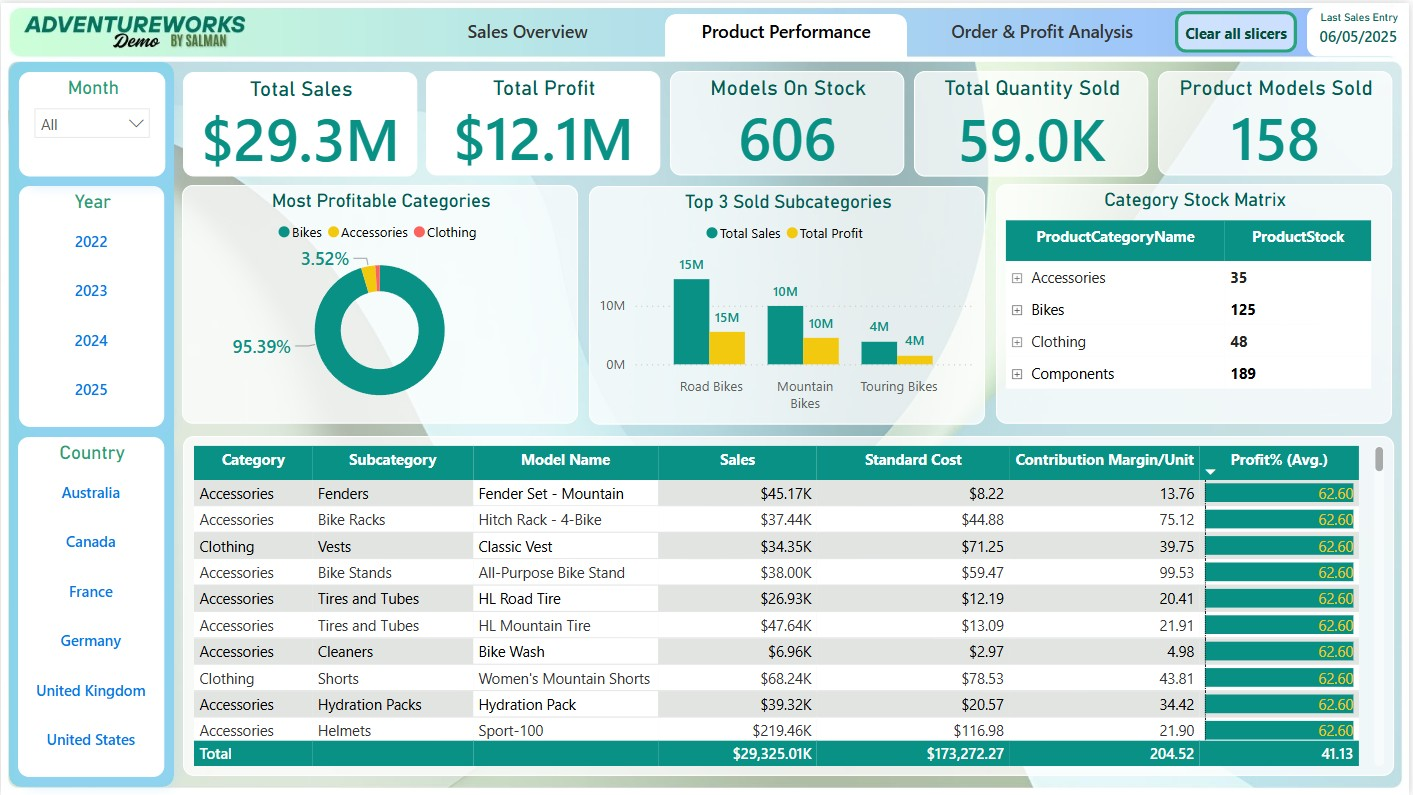

This screenshot's page, from the dashboard's own definition file:
{"tool":"powerbi","page":{"name":"Product Performance","canvas":[1280,720],"ordinal":1},"visuals":[{"type":"shape","box":[7.4,53.8,150.4,659],"z":0,"group":"g1"},{"type":"clusteredColumnChart","title":"Top 3 Sold Subcategories","fields":{"Category":["DimProduct.ProductSubcategoryName"],"Y":["_Mesures.Total Sales","_Mesures.Total Profit"]},"box":[534.7,166.6,360,217.4],"z":0},{"type":"advancedSlicerVisual","title":"Year","fields":{"Values":["DimDate.CalendarYear"]},"box":[16.3,166.5,131.7,218.9],"z":1000,"group":"g1"},{"type":"tableEx","title":"Total Sales, Total Profit and Net Profit Margin %","fields":{"Values":["DimProduct.ProductCategoryName","DimProduct.ProductSubcategoryName","DimProduct.ModelName","_Mesures.Total Sales","DimProduct.StandardCost","_Mesures.Contribution Margin Per Unit","_Mesures.Profit%"]},"box":[165.5,394,1101.2,309.1],"z":1000},{"type":"actionButton","title":"SalesOverviewButton","box":[368.2,10,221,40],"z":2000},{"type":"slicer","title":"Month","fields":{"Values":["DimDate.EnglishMonthName"]},"box":[16.1,62.5,133.2,95],"z":2000,"group":"g1"},{"type":"card","title":"Models On Stock","fields":{"Values":["_Mesures.ProductStock"]},"box":[608.5,62.2,213,94.7],"z":3000},{"type":"advancedSlicerVisual","title":"Country","fields":{"Values":["DimCustomer.EnglishCountryRegionName"]},"box":[15.8,394.5,132.7,309.1],"z":3000,"group":"g1"},{"type":"donutChart","title":"Most Profitable Categories","fields":{"Category":["DimProduct.ProductCategoryName"],"Y":["_Mesures.Total Profit"]},"box":[164.9,165.8,360,217.2],"z":4000},{"type":"actionButton","title":"OnP Button","box":[836.4,10,220.2,40],"z":5000},{"type":"card","title":"Products Sold","fields":{"Values":["_Mesures.DistinctProductCount"]},"box":[1052,62,213,94.9],"z":6000},{"type":"card","title":"Total Quantity Sold","fields":{"Values":["_Mesures.Total Quantity Sold"]},"box":[830.2,62.2,213,95.6],"z":7000},{"type":"actionButton","title":"PP Button","box":[603.3,10,220.2,40],"z":8000},{"type":"pivotTable","title":"Category Stock Matrix","fields":{"Values":["_Mesures.ProductStock"],"Rows":["DimProduct.ProductCategoryName Hierarchy.ProductCategoryName","DimProduct.ProductCategoryName Hierarchy.ProductSubcategoryName","DimProduct.ProductCategoryName Hierarchy.ModelName"]},"box":[904.4,164.9,360,218.1],"z":9000},{"type":"actionButton","title":"Slicer Button","box":[1067,7,111,38],"z":10000},{"type":"card","title":"Total Sales","fields":{"Values":["_Mesures.Total Sales"]},"box":[165,63,213,94.9],"z":11000},{"type":"card","title":"Total Profit","fields":{"Values":["_Mesures.Total Discount"]},"box":[386.8,62.1,213,94.9],"z":12000},{"type":"group","id":"g1","title":"Group 1","box":[7.4,53.8,150.4,659],"z":13000},{"type":"card","title":"Latest Order*","fields":{"Values":["_Mesures.MaxDate"]},"box":[1187,4,93,45],"z":14000}]}

Visuals, with their boxes in screenshot pixels (x1, y1, x2, y2), scaled from the page's 1280x720 canvas onto the 1413x795 screenshot:
shape: [left=8, top=59, right=174, bottom=787]
"Top 3 Sold Subcategories" clusteredColumnChart: [left=590, top=184, right=988, bottom=424]
"Year" advancedSlicerVisual: [left=18, top=184, right=163, bottom=426]
"Total Sales, Total Profit and Net Profit Margin %" tableEx: [left=183, top=435, right=1398, bottom=776]
"SalesOverviewButton" actionButton: [left=406, top=11, right=650, bottom=55]
"Month" slicer: [left=18, top=69, right=165, bottom=174]
"Models On Stock" card: [left=672, top=69, right=907, bottom=173]
"Country" advancedSlicerVisual: [left=17, top=436, right=164, bottom=777]
"Most Profitable Categories" donutChart: [left=182, top=183, right=579, bottom=423]
"OnP Button" actionButton: [left=923, top=11, right=1166, bottom=55]
"Products Sold" card: [left=1161, top=68, right=1396, bottom=173]
"Total Quantity Sold" card: [left=916, top=69, right=1152, bottom=174]
"PP Button" actionButton: [left=666, top=11, right=909, bottom=55]
"Category Stock Matrix" pivotTable: [left=998, top=182, right=1396, bottom=423]
"Slicer Button" actionButton: [left=1178, top=8, right=1300, bottom=50]
"Total Sales" card: [left=182, top=70, right=417, bottom=174]
"Total Profit" card: [left=427, top=69, right=662, bottom=173]
"Group 1" group: [left=8, top=59, right=174, bottom=787]
"Latest Order*" card: [left=1310, top=4, right=1412, bottom=54]
